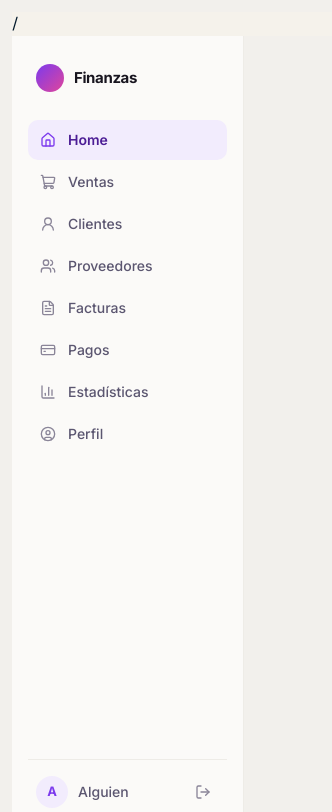
Test: AppLayout — navegación bloqueada durante una venta en curso (C-42 review fix) › nav links are NOT disabled and DO navigate when no venta-create mutation is pending (triangulation)
expect the link "Home" is shown: met, box [28,120,227,160]
Click the link "Proveedores" at (96, 266), box [40,257,153,274]
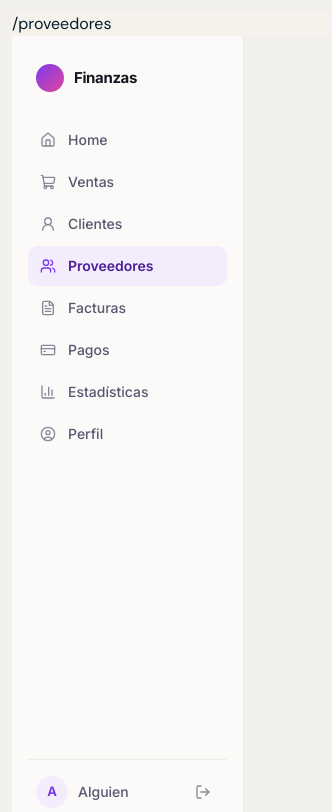
expect the text with test id "current-path" reads "/proveedores": met, box [12,13,112,34]
